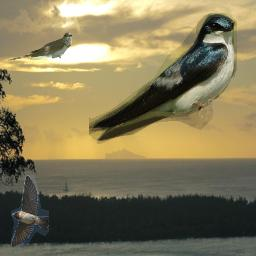Cuckoo: (7, 32, 72, 62)
Swallow: (89, 13, 237, 144), (11, 175, 49, 247)
